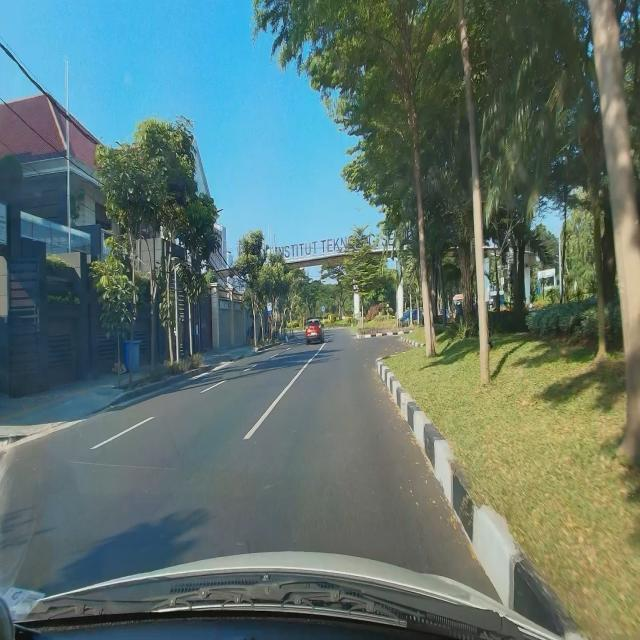car: (305, 318, 325, 345)
license-plate: (311, 332, 316, 335)
